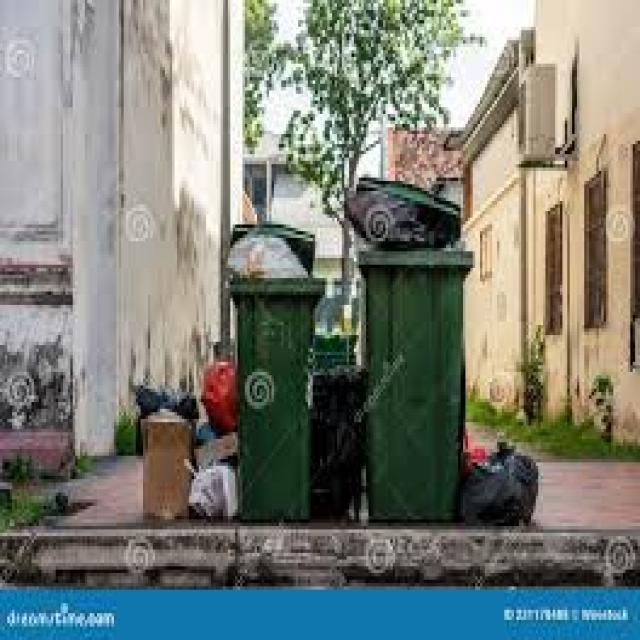bin_full: (352, 183, 475, 542), (228, 222, 320, 546)
bulk_waste: (140, 436, 197, 534)
normal_waste: (477, 442, 537, 530), (233, 230, 305, 290), (194, 462, 237, 522), (206, 358, 242, 426), (134, 394, 197, 428)
